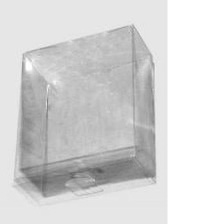plastic_box: (6, 17, 162, 215)
